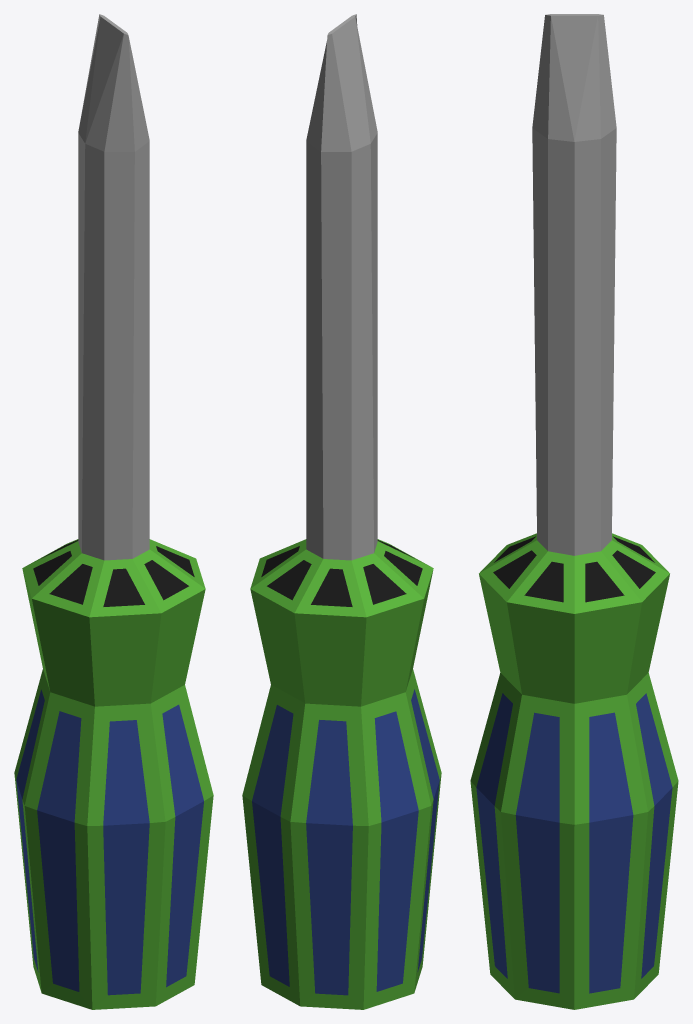
The model's file is m_screwdriver.fbx.
The picture shows the model from 3 angles, left to right: view 1: azimuth 30°, elevation 25°; view 2: azimuth 150°, elevation 25°; view 3: azimuth 270°, elevation 25°; orthographic projection.
Visible parts, largest first — view 1: Cylinder; view 2: Cylinder; view 3: Cylinder.
Part boxes in pixels (x1,y1,x2,y2): Cylinder: [14, 14, 213, 1009]; Cylinder: [242, 14, 441, 1009]; Cylinder: [470, 14, 678, 1009].
Size of the model in its own units: 17.3 by 88.02 by 17.3.
